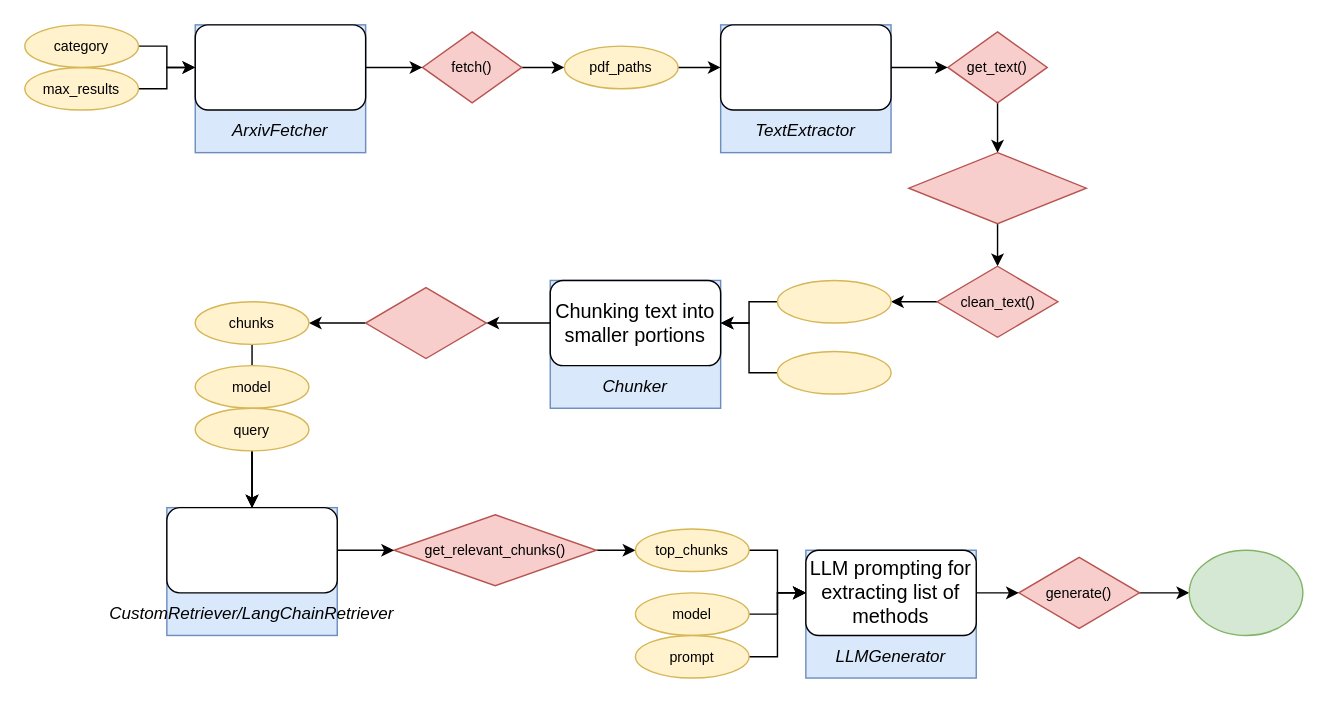
Image size: 1328x703. Some labels were removed from this diagram. The shapes that lost their labels are listed below. From the top down, each one's box as (x1, y1, x2, y2) in pixels, then its label:
(194, 23, 366, 110): Fetch papers from arXiv
(719, 23, 891, 110): Extract text from PDFs
(907, 151, 1086, 224): delete_references()
(776, 279, 891, 323): text
(364, 286, 486, 359): chunk_text()
(776, 350, 891, 394): chunk_size
(165, 506, 337, 593): Retrieving top-k chunks
(1188, 549, 1303, 635): answer (list of methods)
